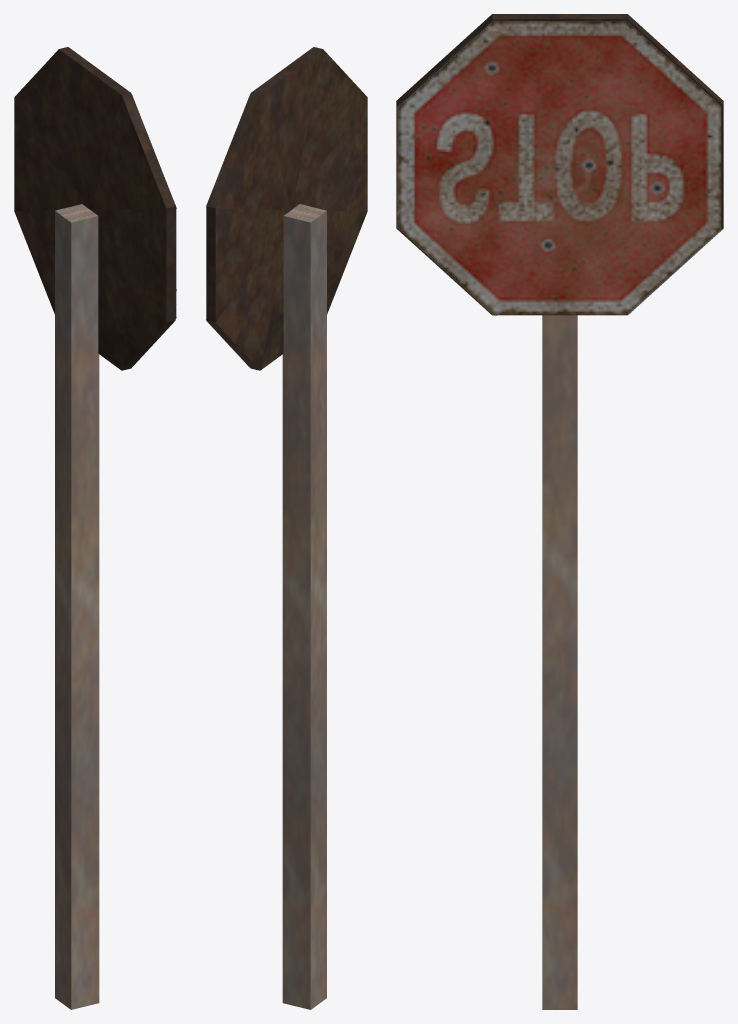
The model's file is signstoprusty.obj.
3 renders of one model, left to right at view 1: azimuth 30°, elevation 25°; view 2: azimuth 150°, elevation 25°; view 3: azimuth 270°, elevation 25°, orthographic. The views are drawn at different scales.
Parts seen in each view (by area): view 1: cube, cylinder; view 2: cube, cylinder; view 3: plane, cube, cylinder.
Boxes of the visible parts, bbox=[...] form: cube: bbox=[55, 204, 99, 1009]; cylinder: bbox=[14, 47, 175, 370]; cube: bbox=[282, 204, 326, 1009]; cylinder: bbox=[206, 47, 367, 370]; plane: bbox=[396, 21, 721, 315]; cube: bbox=[542, 315, 577, 1009]; cylinder: bbox=[396, 14, 723, 315].
Bounding box in the file's own units: 0.125 × 2.94 × 0.875.
Materials: 3 (3 with a texture image).
